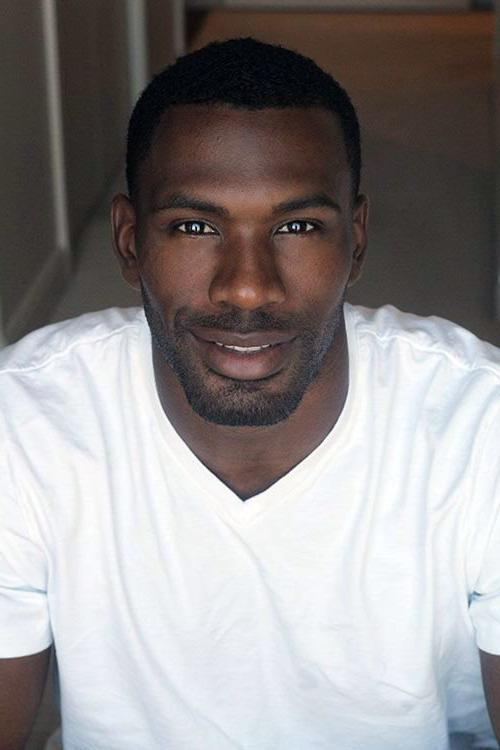Sober: (146, 114, 334, 391)
